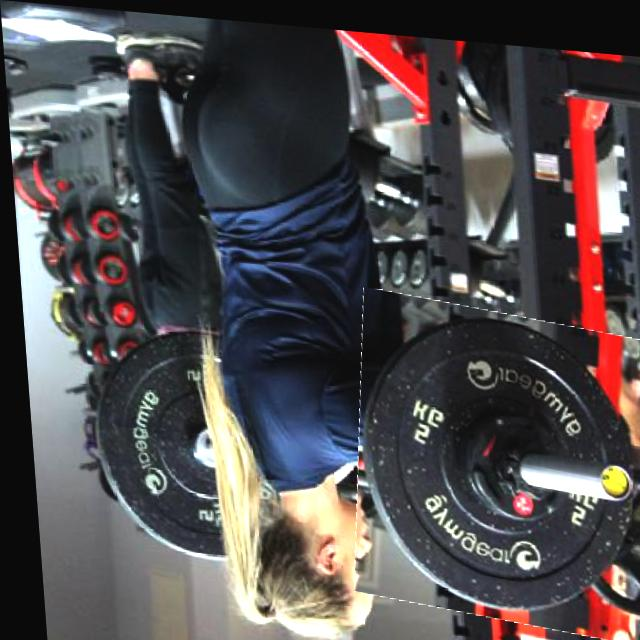barbell: (337, 287, 640, 632)
